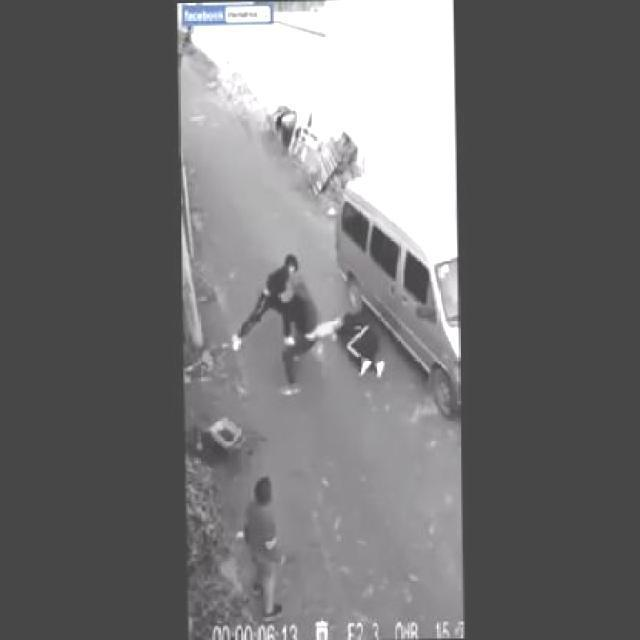fight: (238, 242, 322, 404)
non-fight: (238, 471, 292, 618)
